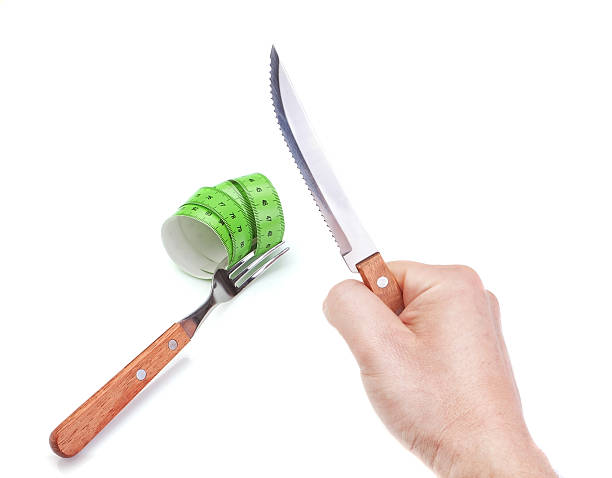knife: (267, 39, 404, 316)
